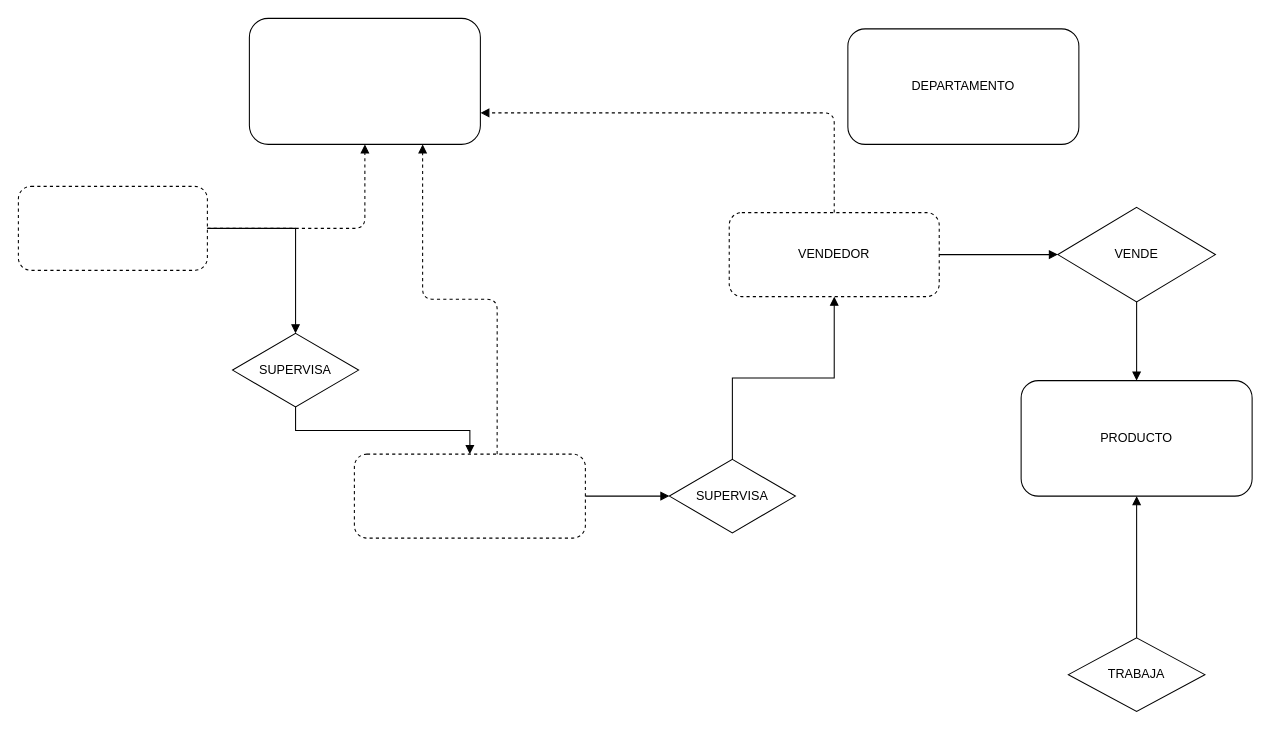
Some shapes in this 1271 by 730 pixel diagram are drawn without their labels. Each missing label, with the centre of its shape:
GERENTE: the point at 112,227
JEFE: the point at 469,495
TRABAJADOR: the point at 364,80
